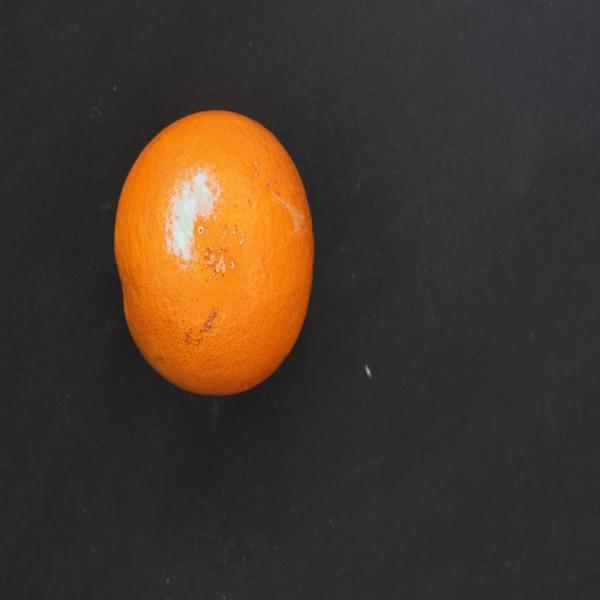Moho verde: (107, 105, 323, 397)
